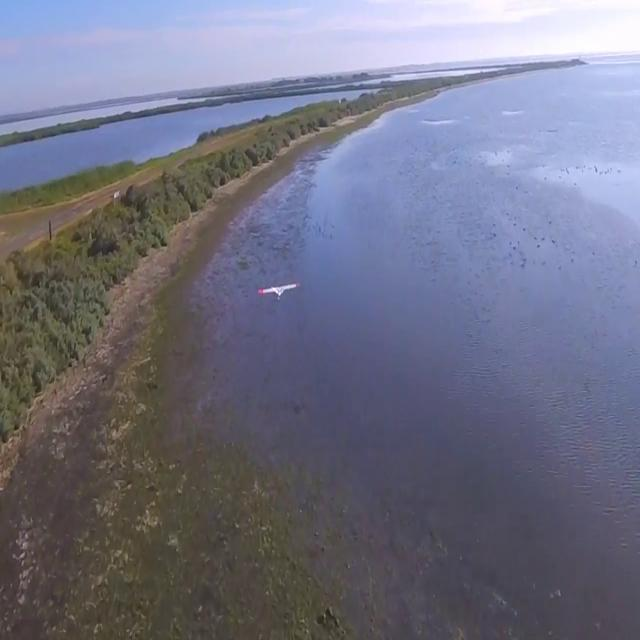iha: (257, 278, 301, 303)
